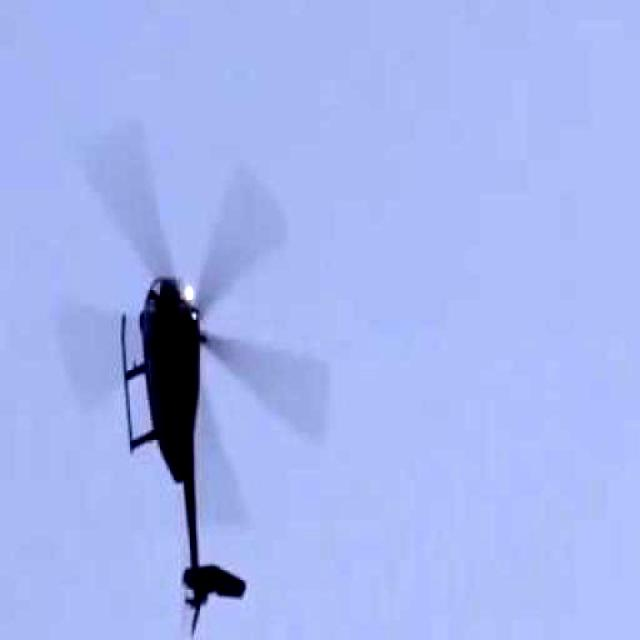drone: (22, 102, 372, 640)
